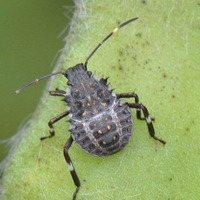insect: (40, 18, 165, 199)
